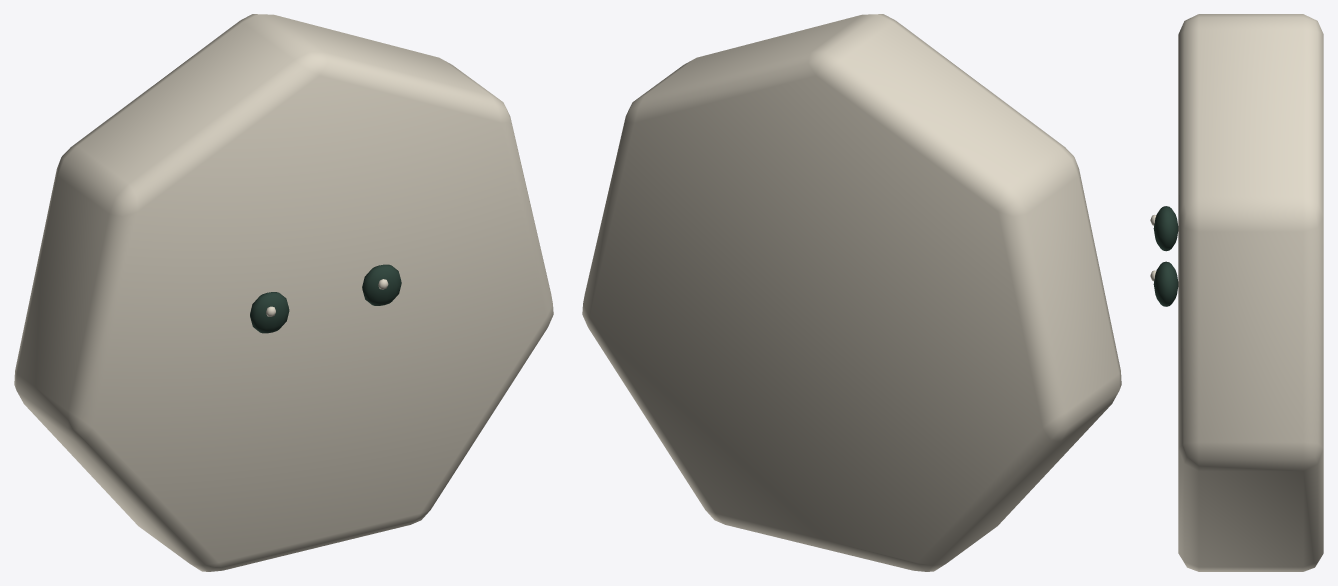
The model's file is shape_heptagon.glb.
3 renders of one model, left to right at view 1: azimuth 30°, elevation 25°; view 2: azimuth 150°, elevation 25°; view 3: azimuth 270°, elevation 25°, orthographic.
Parts seen in each view (by area): view 1: color_body, body; view 2: color_body; view 3: color_body, body.
Boxes of the visible parts, x1,y1,x2,y2 form: color_body: [14, 14, 553, 571]; body: [250, 264, 401, 333]; color_body: [582, 14, 1121, 571]; color_body: [1178, 14, 1323, 571]; body: [1150, 206, 1178, 306].
Size of the model in its own units: 1.25 by 1.23 by 0.382.
